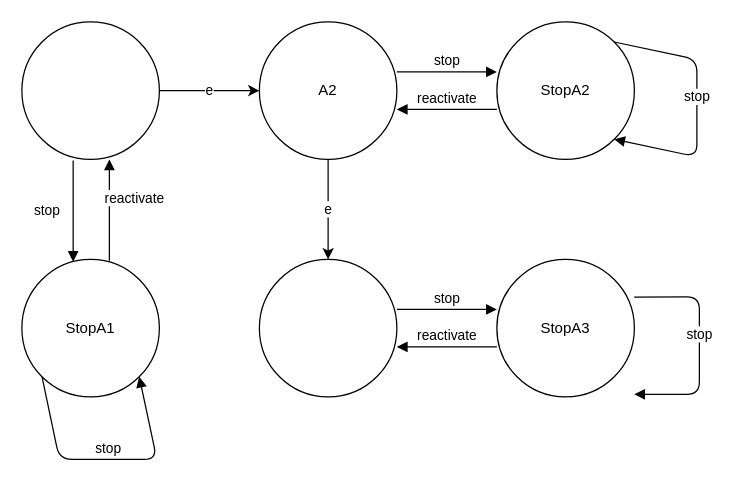
The diagram is 734 pixels wide and 491 high, and some of its shapes have lost their labels. Here are the shapes that lost their labels. From the top down, the centre of each, then its label:
point 90,90: A1
point 327,327: A3
